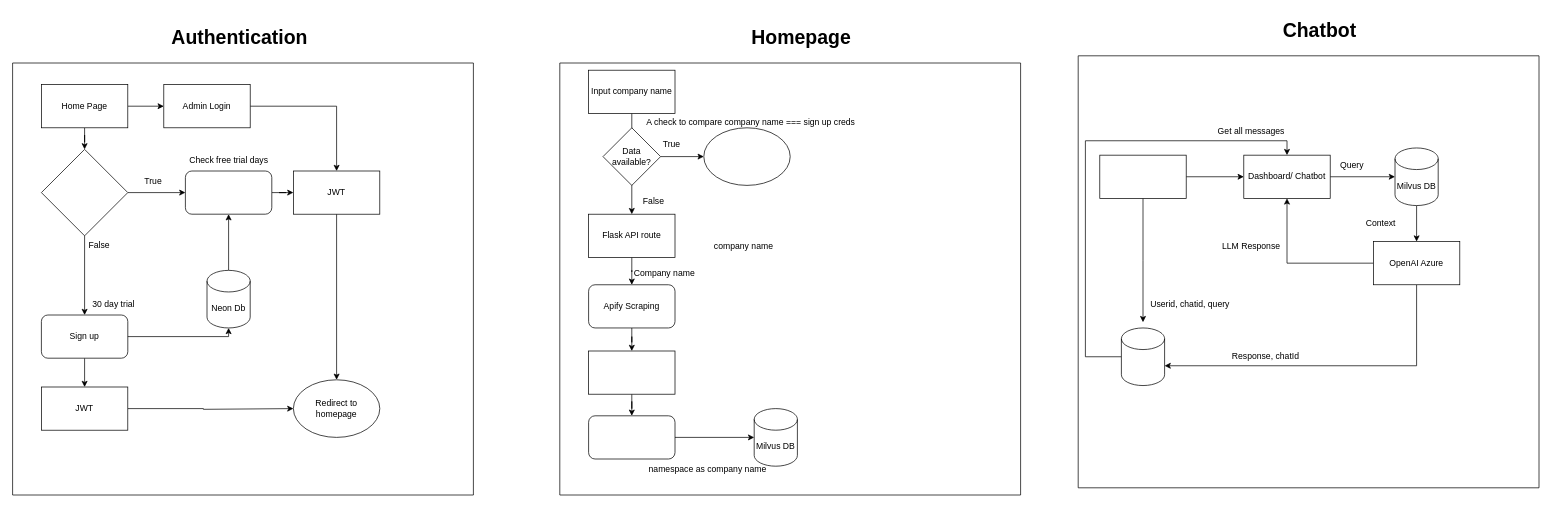
The diagram is 1552 pixels wide and 508 high, and some of its shapes have lost their labels. Each missing label, with the box of its shape:
Create Embeddings: (588, 415, 675, 459)
Google Reviews Data: (588, 350, 675, 394)
Have an existing account?: (41, 149, 128, 236)
Login: (185, 170, 272, 214)
NeonDB: (1121, 327, 1165, 386)
Redirect to App: (703, 127, 790, 185)
User Query: (1099, 154, 1186, 198)
